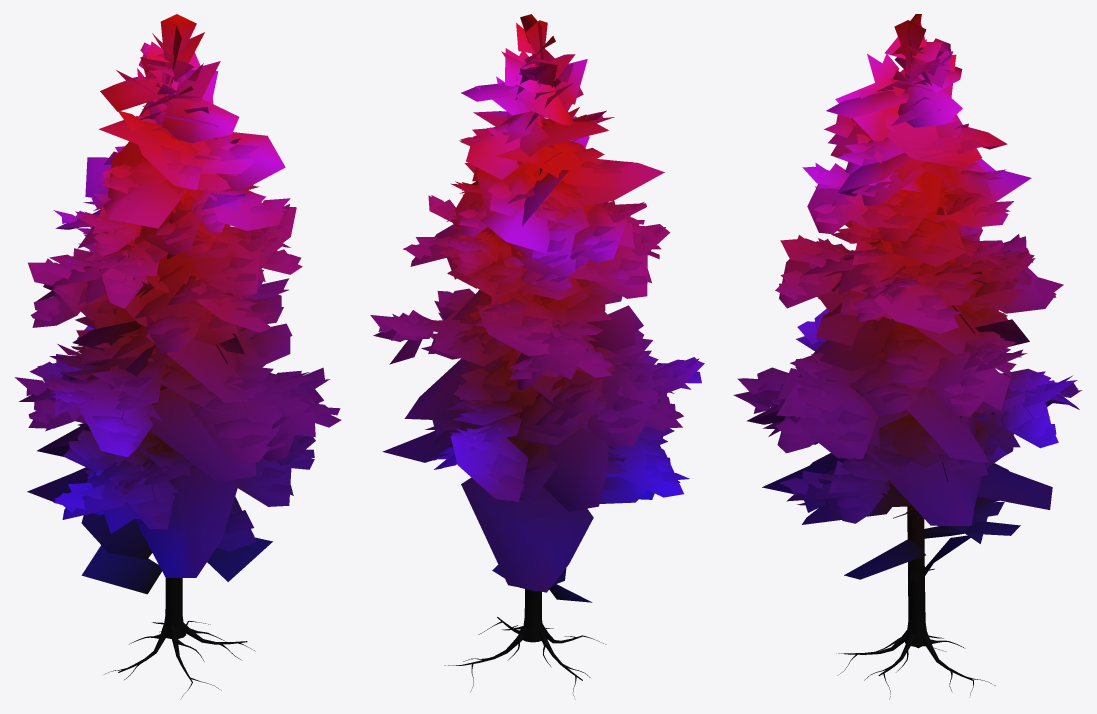
Rendered from Fir_03_Medium.FBX.
3 views of the same model, side by side, from view 1: azimuth 30°, elevation 25°; view 2: azimuth 150°, elevation 25°; view 3: azimuth 270°, elevation 25° (orthographic).
Visible parts, largest first — view 1: Fir_03_Medium_LOD0; view 2: Fir_03_Medium_LOD0; view 3: Fir_03_Medium_LOD0.
Part boxes in pixels (x1,y1,x2,y2): Fir_03_Medium_LOD0: (14, 14, 341, 699); Fir_03_Medium_LOD0: (370, 14, 704, 699); Fir_03_Medium_LOD0: (733, 14, 1081, 699).
Size of what is drawn, in the model's own units: 5742 by 12600 by 5985.
